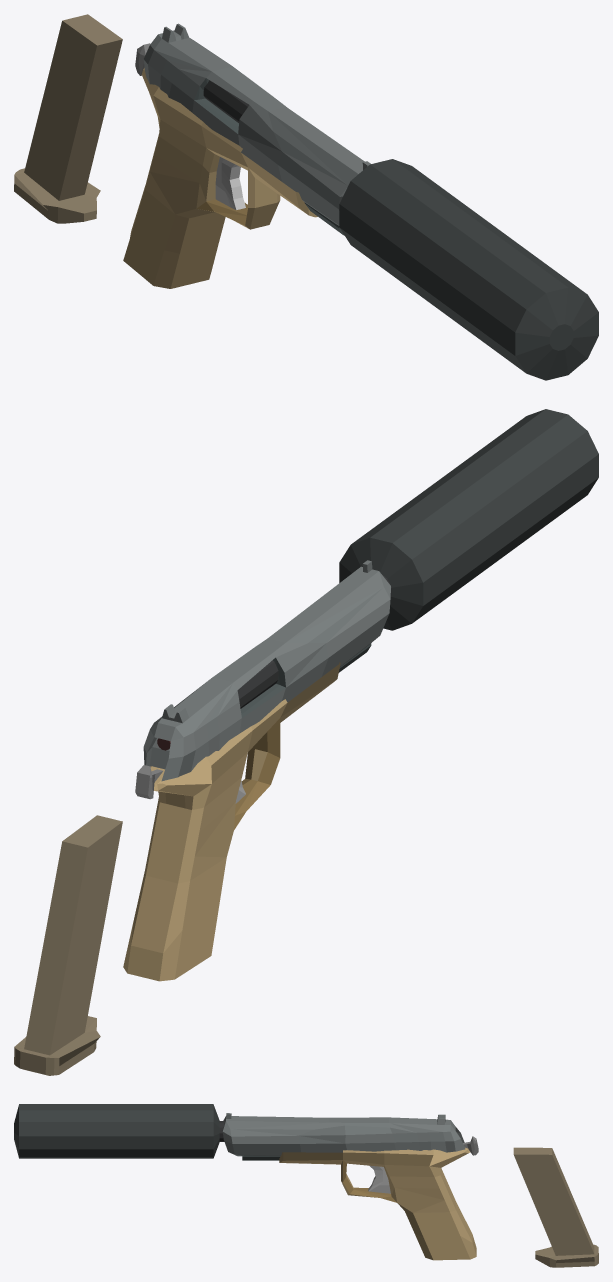
Rendered from gun1.gltf.
3 views of the same model, one above another, from view 1: azimuth 30°, elevation 25°; view 2: azimuth 150°, elevation 25°; view 3: azimuth 270°, elevation 25° (orthographic). The views are drawn at different scales.
Parts seen in each view (by area): view 1: cuboid (×2), cylinder, magthing1, trigger, barrel; view 2: cuboid (×2), cylinder, magthing1, barrel; view 3: cuboid (×2), cylinder, magthing1, trigger.
Boxes of the visible parts, x1,y1,x2,y2 form: cuboid (×2): (123, 23, 370, 288); cylinder: (339, 159, 598, 380); magthing1: (14, 14, 122, 223); trigger: (215, 157, 245, 209); barrel: (203, 80, 248, 122); cuboid (×2): (123, 560, 390, 981); cylinder: (339, 409, 598, 630); magthing1: (14, 815, 122, 1075); barrel: (237, 574, 391, 708); cuboid (×2): (222, 1113, 476, 1260); cylinder: (14, 1104, 219, 1158); magthing1: (513, 1147, 598, 1267); trigger: (368, 1165, 390, 1193).
Size of the model in its own units: 0.1625 by 0.5245 by 1.78.
2 materials, 2 textured.
